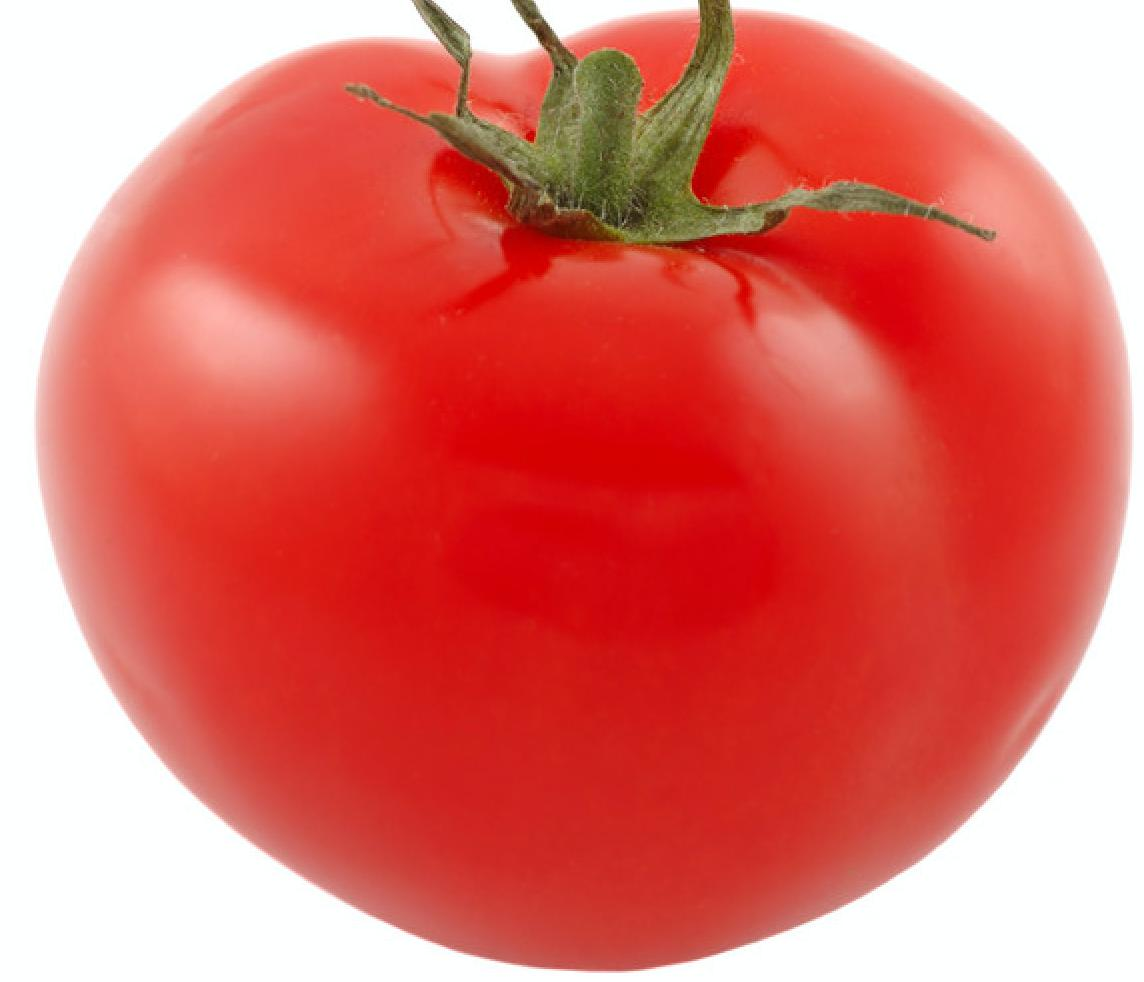tomato: (44, 33, 1124, 966)
